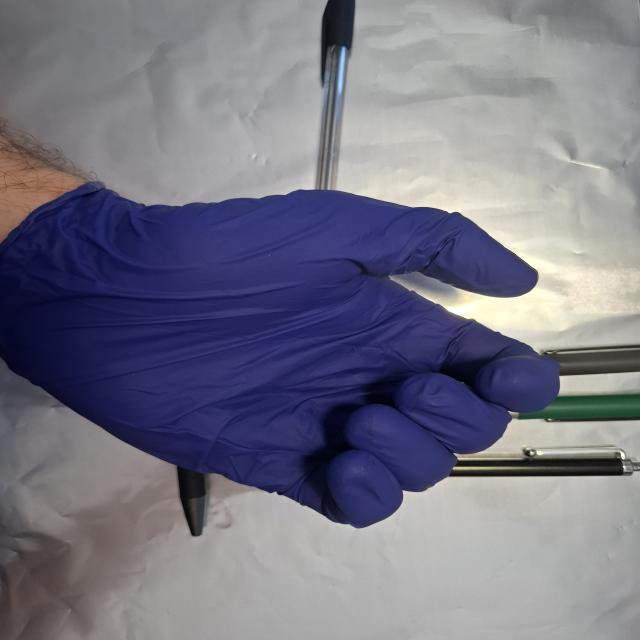glove_on: (5, 178, 567, 530)
